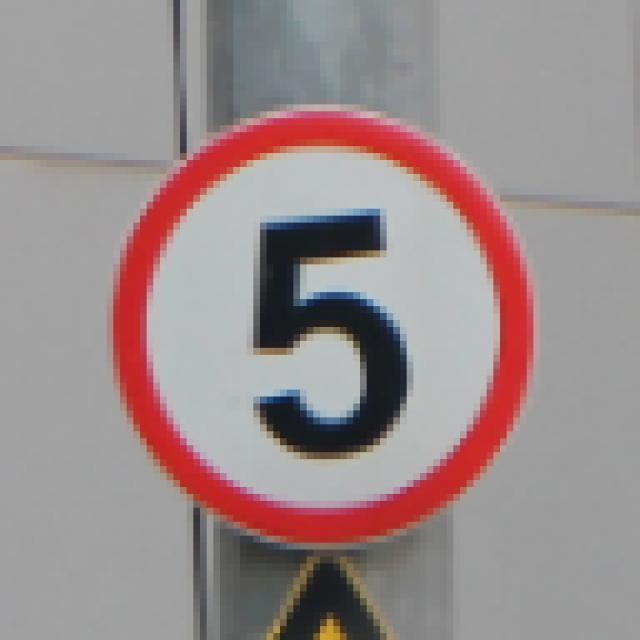Speed: (99, 92, 558, 560)
